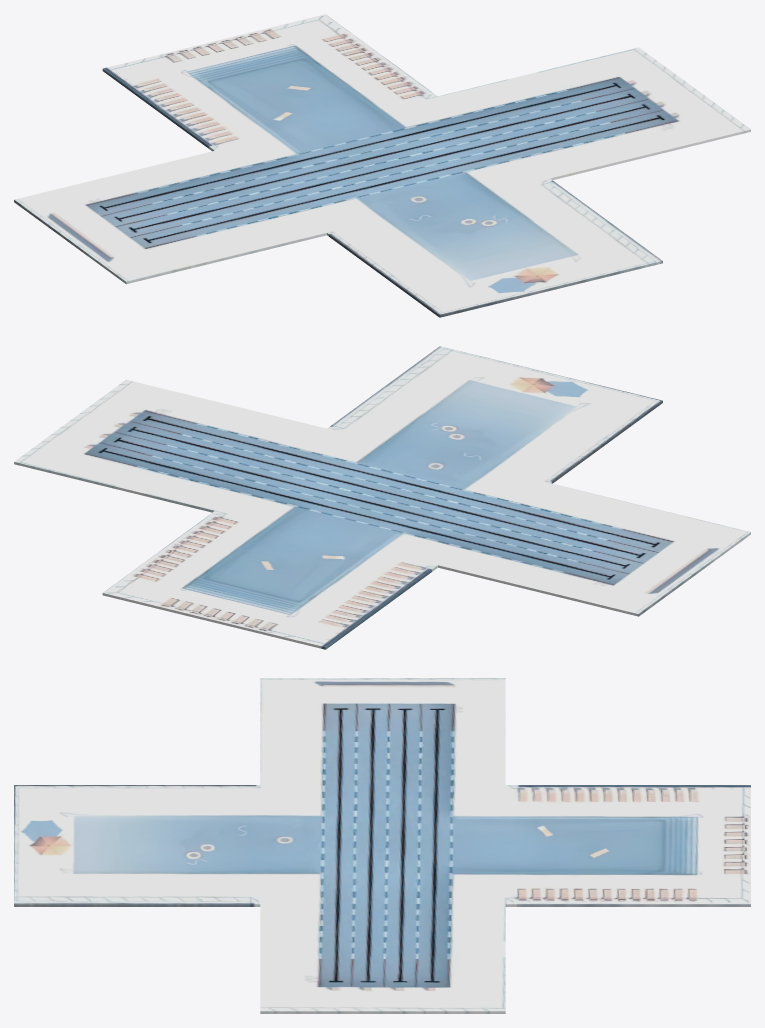
Rendered from pluspool ny.glb.
3 renders of one model, top to bottom at view 1: azimuth 30°, elevation 25°; view 2: azimuth 150°, elevation 25°; view 3: azimuth 270°, elevation 25°, orthographic. The views are drawn at different scales.
Parts seen in each view (by area): view 1: Cube; view 2: Cube; view 3: Cube.
Boxes of the visible parts, x1=… form: Cube: x1=14, y1=14, x2=750, y2=317; Cube: x1=14, y1=346, x2=750, y2=649; Cube: x1=14, y1=678, x2=750, y2=1013.
Bounding box in the file's own units: 247 × 0.9205 × 231.
Materials: 1 (1 with a texture image).
